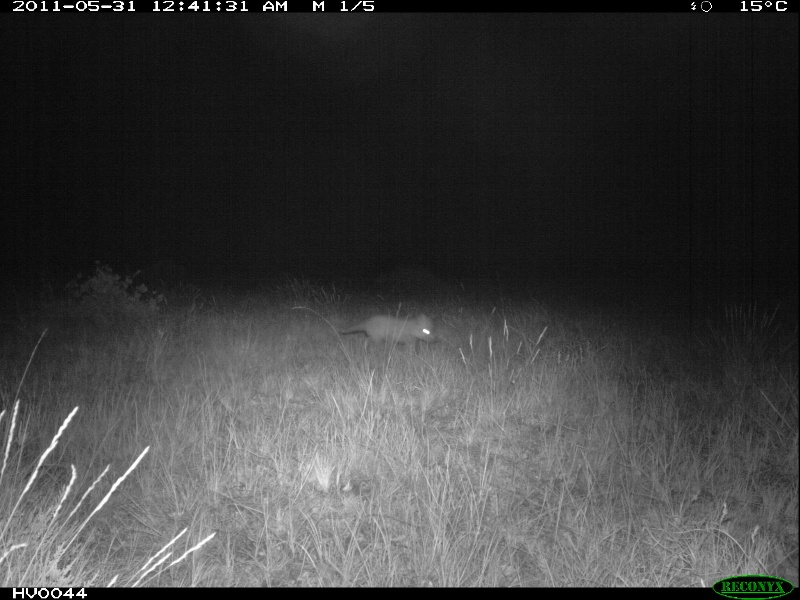fox: (336, 309, 442, 353)
